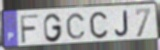7: (135, 6, 153, 38)
C: (65, 13, 87, 41), (88, 11, 109, 40)
F: (19, 14, 40, 46)
G: (43, 12, 64, 44)
J: (113, 9, 130, 38)
